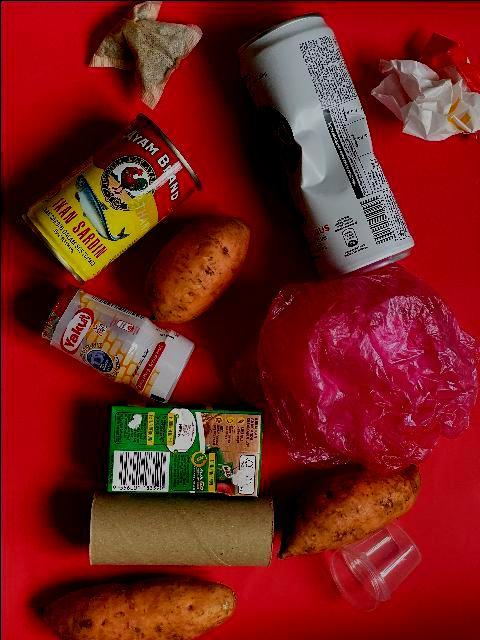drinkcan: (237, 10, 417, 284)
drinkpack: (101, 400, 264, 500)
foodcan: (14, 111, 206, 287)
paperbag: (368, 28, 480, 144)
plasticbag: (224, 260, 480, 480)
plasticbottle: (39, 281, 194, 405)
plasticcontainer: (328, 517, 422, 615)
sweetpotato: (34, 570, 234, 640), (276, 463, 418, 561), (146, 213, 248, 324)
teabag: (82, 0, 204, 111)
tissueroll: (87, 488, 273, 566)
